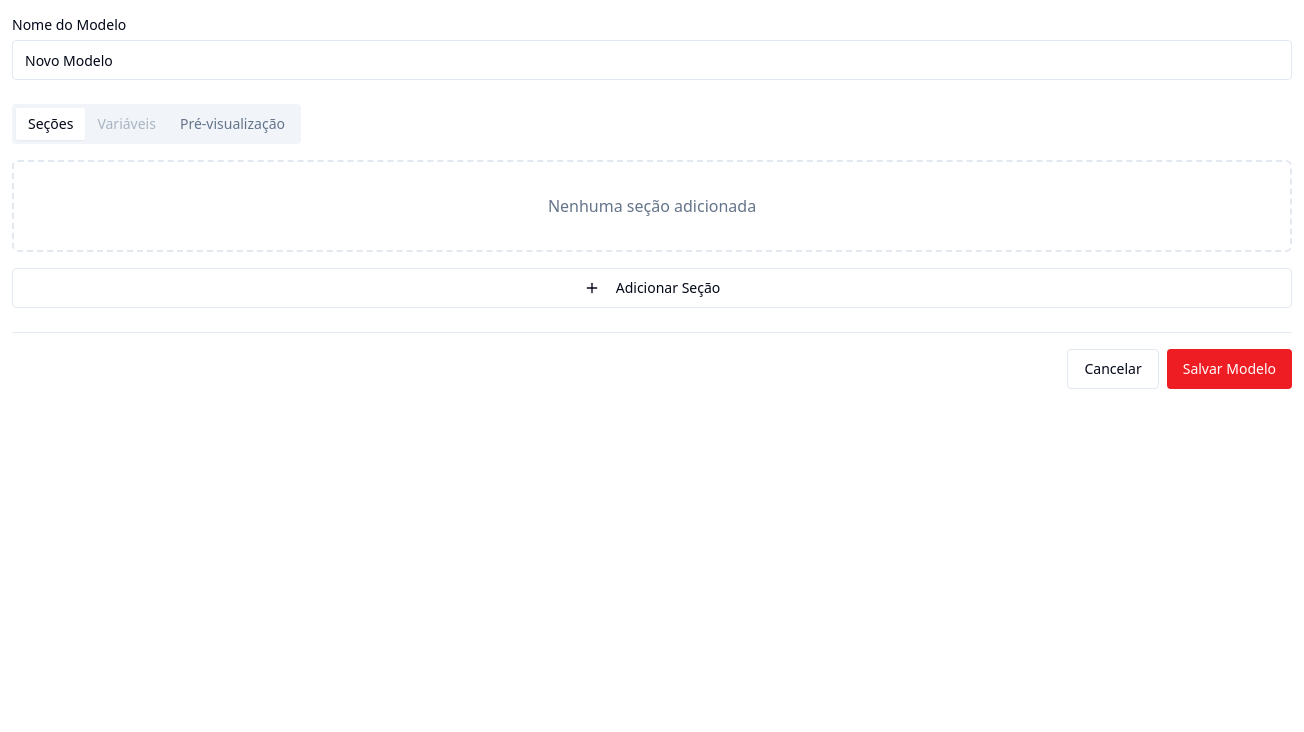
Test case: TemplateEditor › deve permitir adicionar uma nova seção
Click the button "Adicionar Seção" at (652, 288), box [12, 268, 1292, 308]
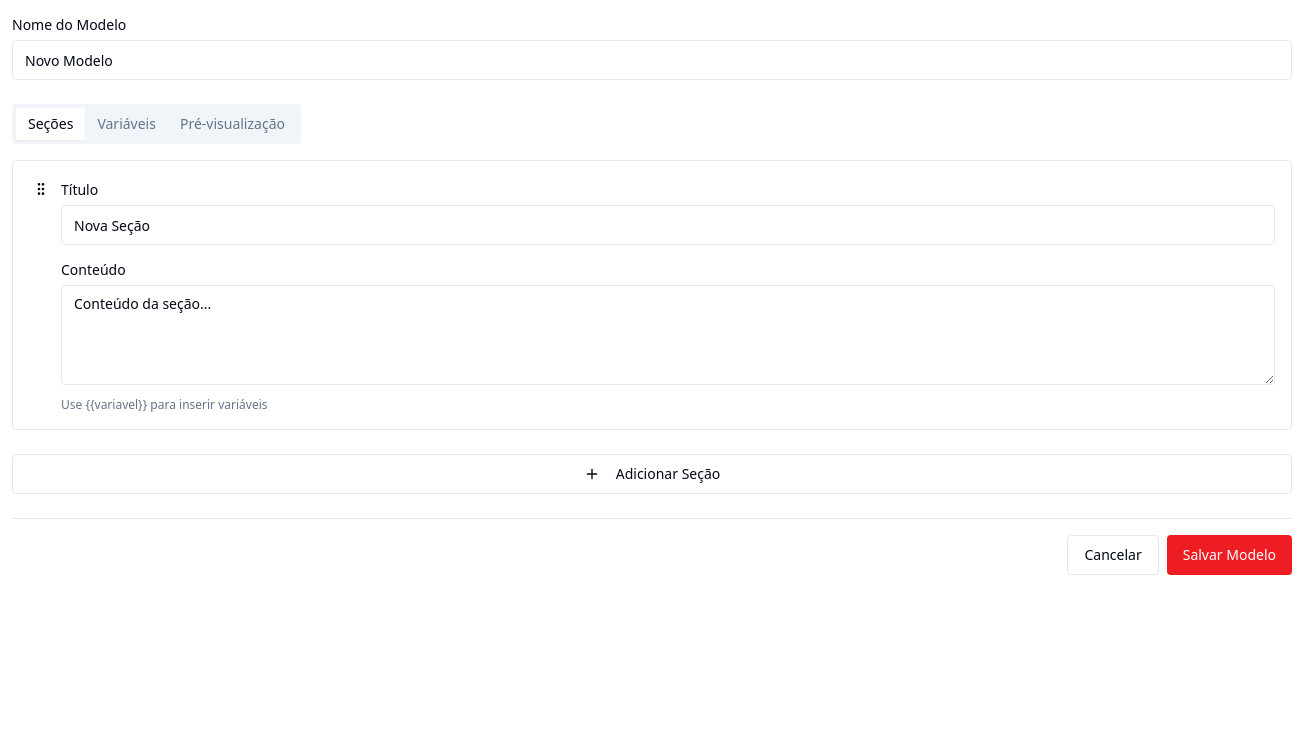
Check: the field labelled "Título" is shown, box [61, 205, 1275, 245]
Check: the text box labelled "Conteúdo" is shown, box [61, 285, 1275, 385]
